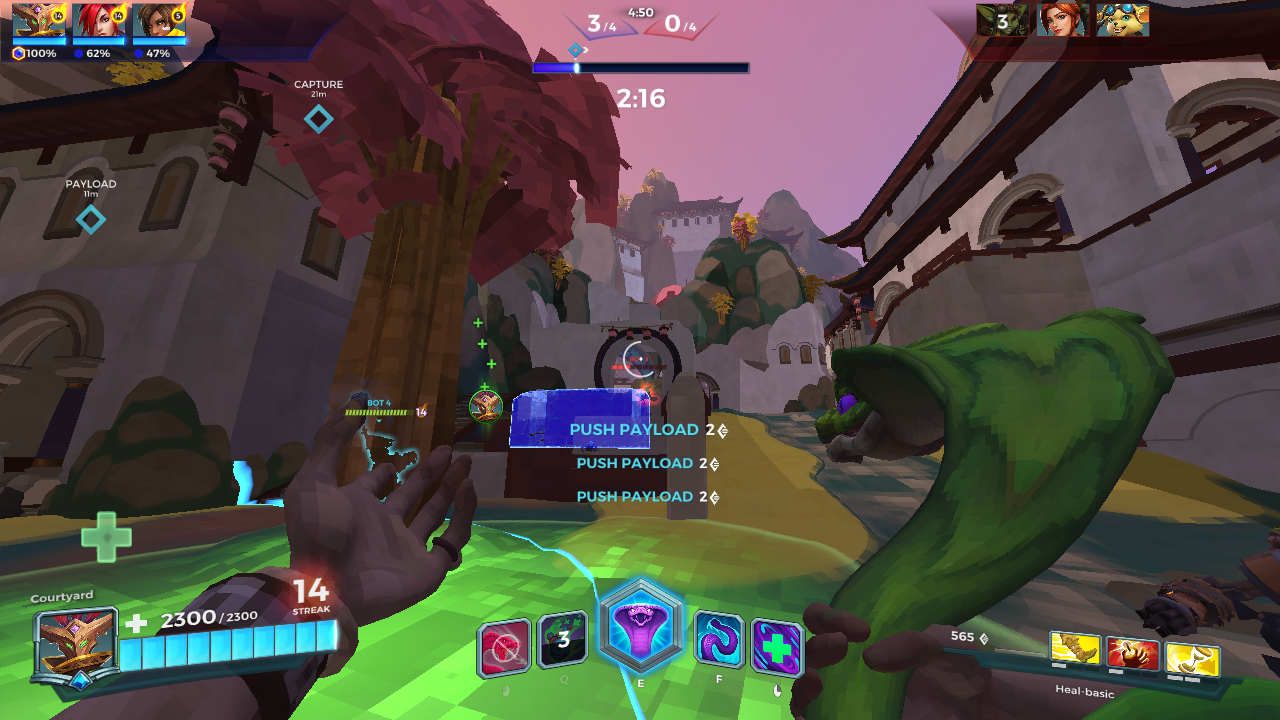model: (633, 374, 658, 409)
